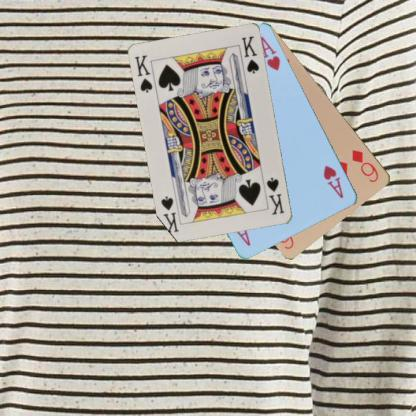6d: (350, 146, 380, 184)
Ah: (321, 162, 345, 200)
Ks: (264, 174, 286, 216), (132, 53, 154, 94)
